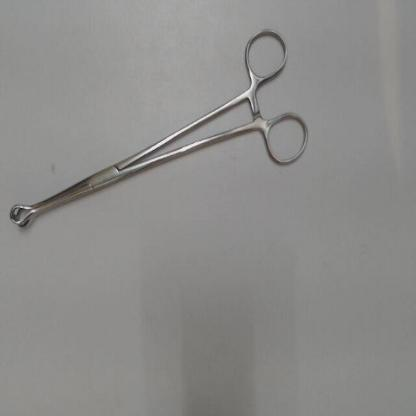8 Babcock Tissue Forceps: (7, 18, 318, 232)
